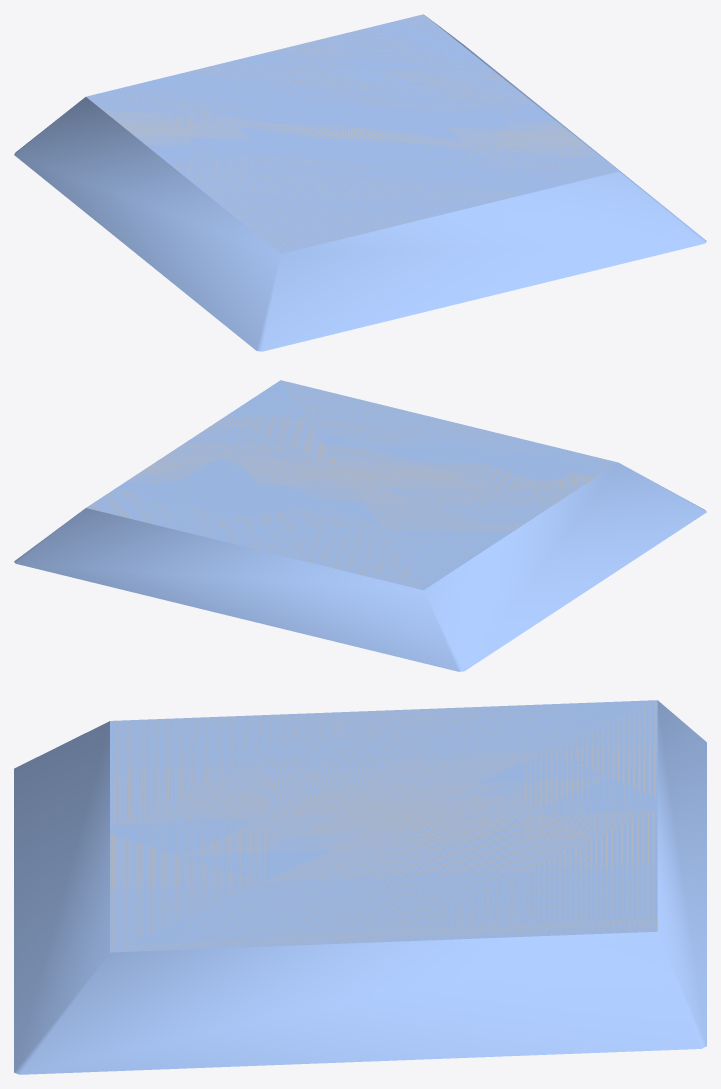
The model's file is original-17.obj.
The picture shows the model from 3 angles, top to bottom: view 1: azimuth 30°, elevation 25°; view 2: azimuth 150°, elevation 25°; view 3: azimuth 270°, elevation 25°; orthographic projection. The views are drawn at different scales.
Visible parts, largest first — view 1: Group17/mesh15/mesh15-geometry#mesh15-geometry; view 2: Group17/mesh15/mesh15-geometry#mesh15-geometry; view 3: Group17/mesh15/mesh15-geometry#mesh15-geometry.
Part boxes in pixels (x1=…): Group17/mesh15/mesh15-geometry#mesh15-geometry: x1=14, y1=14, x2=706, y2=351; Group17/mesh15/mesh15-geometry#mesh15-geometry: x1=14, y1=380, x2=706, y2=671; Group17/mesh15/mesh15-geometry#mesh15-geometry: x1=14, y1=700, x2=706, y2=1074.
Bounding box in the file's own units: 0.0754 × 0.0119 × 0.0715.
